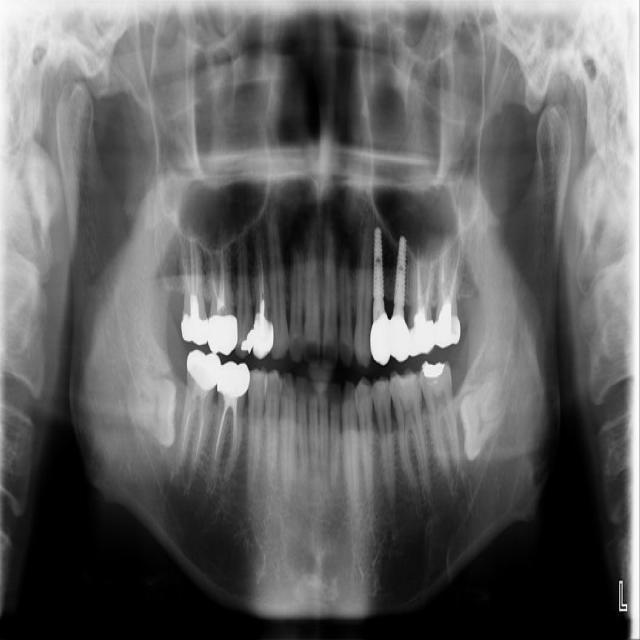52: (180, 347, 226, 393), (417, 358, 455, 409), (206, 310, 239, 357), (368, 312, 394, 366), (180, 306, 210, 347), (216, 360, 251, 395), (406, 319, 436, 357), (388, 314, 410, 362), (251, 316, 274, 360), (234, 311, 255, 359), (432, 319, 461, 350)
73: (176, 379, 217, 470), (209, 392, 247, 482), (203, 226, 235, 313), (176, 225, 205, 311), (436, 237, 464, 321), (408, 236, 435, 321), (255, 231, 272, 317), (598, 562, 598, 582)
BioHorizons Implant: (433, 237, 464, 349)
Biomet 3i Implant: (454, 371, 511, 462)
Blue Sky Bio Implant: (417, 358, 463, 480)
Caries: (178, 225, 209, 347)
Implant: (178, 348, 223, 471)
Keystone Dental Implant: (128, 370, 177, 447)
